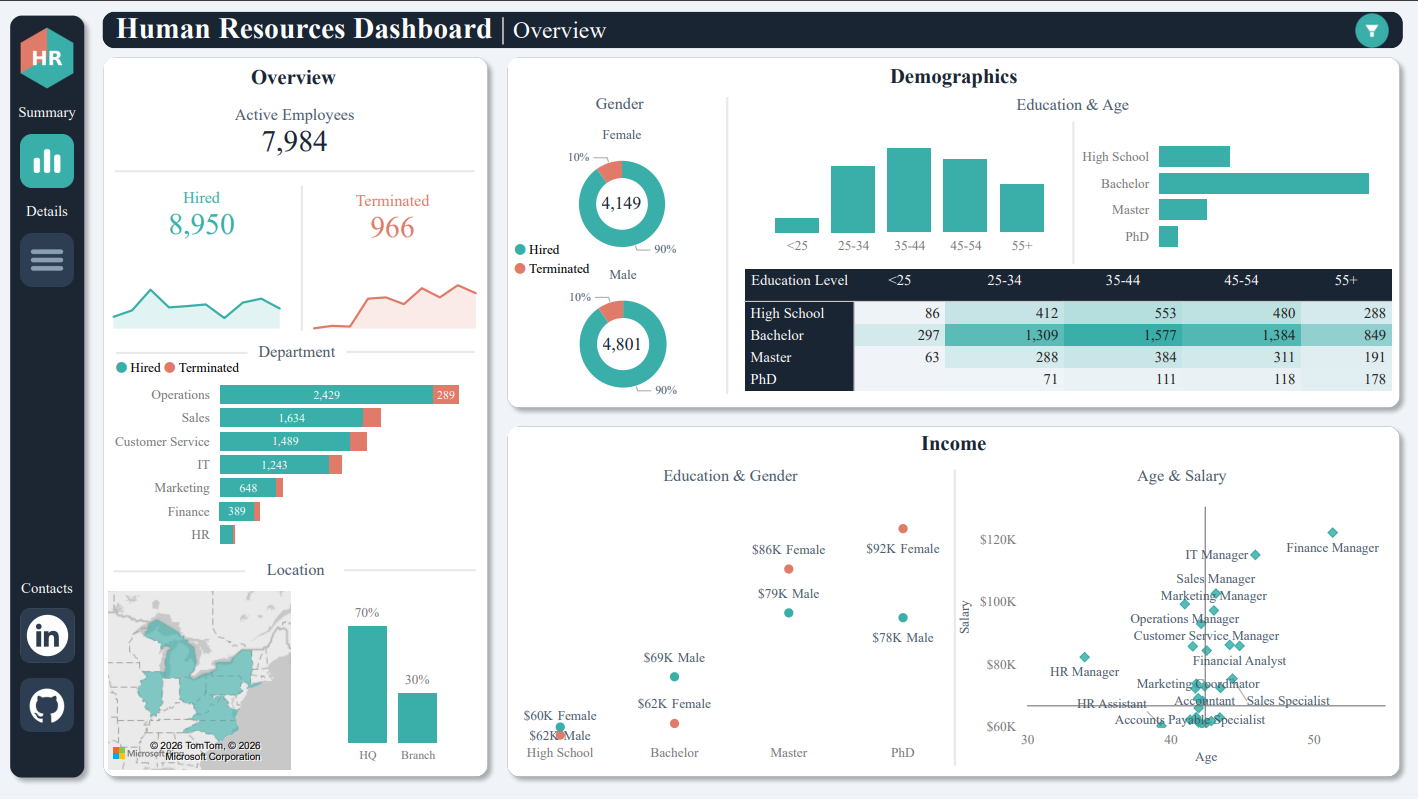

This screenshot's page, from the dashboard's own definition file:
{"tool":"powerbi","page":{"name":"HR | Summary","canvas":[1280,720],"ordinal":0},"visuals":[{"type":"shape","title":"Navigator","box":[0,0,84.5,720.1],"z":0,"group":"g13"},{"type":"shape","title":"Titler Header Section","box":[91.6,4.9,1189.1,38.5],"z":0,"group":"g9"},{"type":"group","id":"g1","title":"Left Overview Section","box":[84.2,43.4,364.4,666],"z":0},{"type":"shape","title":"Left Overview","box":[84.2,43.4,364.4,666],"z":0,"group":"g1"},{"type":"group","id":"g2","title":"Demo Section","box":[448.7,43.4,822.9,333.5],"z":0,"group":"g5"},{"type":"group","id":"g3","title":"Demo Section","box":[448.7,43.4,822.9,333.5],"z":0,"group":"g2"},{"type":"shape","title":"Demos Section","box":[448.7,43.4,822.9,333.5],"z":0,"group":"g3"},{"type":"columnChart","title":"Hired by Age Group","fields":{"Category":["HumanResources.Age Group"],"Y":["Employee_Measure.Total Hired"]},"box":[673.8,110,293.9,127.3],"z":0,"group":"g11"},{"type":"cardVisual","title":"Male Hired","fields":{"Data":["HumanResources.Total Hired"]},"box":[519.7,271.9,83.6,76],"z":0,"group":"g6"},{"type":"group","id":"g4","title":"Income Section","box":[448.7,375.9,822.9,333.5],"z":0,"group":"g7"},{"type":"shape","title":"Income Section","box":[448.7,375.9,822.9,333.5],"z":0,"group":"g4"},{"type":"textbox","title":"Education & Gender Title","box":[456.5,416.3,403.6,27.1],"z":0,"group":"g8"},{"type":"textbox","title":"Age & Salary Title","box":[868,416.3,396.8,27.1],"z":0,"group":"g12"},{"type":"textbox","title":"Title Header","box":[93.2,5,483.5,41.6],"z":1000,"group":"g9"},{"type":"image","title":"HR Logo","box":[8,15.1,68.3,72.7],"z":1000,"group":"g13"},{"type":"group","id":"g5","title":"Right Overview Section","box":[448.7,43.4,822.9,666],"z":1000},{"type":"textbox","title":"Demographics Title","box":[458.5,52.9,803.4,32.1],"z":1000,"group":"g3"},{"type":"textbox","title":"Overview Title","box":[92.6,53.2,344.8,32.7],"z":1000,"group":"g1"},{"type":"group","id":"g6","title":"Left Demo Section","box":[455.8,80.9,210.9,285.8],"z":1000,"group":"g2"},{"type":"barChart","title":"Hired by Education Level","fields":{"Category":["Dim_Education.Education Level"],"Y":["Employee_Measure.Total Hired"]},"box":[967.8,110,293,127.3],"z":1000,"group":"g11"},{"type":"donutChart","title":"Male","fields":{"Y":["Employee_Measure.Total Hired","Employee_Measure.Total Terminated"]},"box":[456.8,236.1,209.9,130.6],"z":1000,"group":"g6"},{"type":"group","id":"g7","title":"Income Section","box":[448.7,375.9,822.9,333.5],"z":1000,"group":"g5"},{"type":"textbox","title":"Income Title","box":[458.5,384.4,803.4,31.9],"z":1000,"group":"g4"},{"type":"group","id":"g8","title":"Left Income Section","box":[456.5,416.3,403.6,284.2],"z":1000,"group":"g7"},{"type":"scatterChart","title":"Age & Salary by Job Title","fields":{"X":["Avg(HumanResources.Age)"],"Y":["Median(HumanResources.Salary)"],"Category":["Dim_Job.Job Title"]},"box":[860.2,444.3,400.7,255.2],"z":1000,"group":"g12"},{"type":"lineChart","title":"Salary by Education & Gender","fields":{"Category":["Dim_Education.Education Level"],"Y":["Median(Fact_HR.Salary)"],"Series":["Dim_Employee.Gender"]},"box":[458.4,446.3,401.7,254.2],"z":1000,"group":"g8"},{"type":"group","id":"g9","title":"Header Section","box":[91.6,4.9,1189.1,41.7],"z":2000},{"type":"group","id":"g10","title":"Filters","box":[590,6,670,36.4],"z":2000,"group":"g9"},{"type":"image","title":"Show Filter","box":[1215,12,45,30],"z":2000,"group":"g10"},{"type":"group","id":"g11","title":"Right Demo Section","box":[667,81.7,595.8,288.1],"z":2000,"group":"g2"},{"type":"textbox","title":"Summary Text","box":[8,88,68,27],"z":2000,"group":"g13"},{"type":"cardVisual","title":"Female Hired","fields":{"Data":["HumanResources.Total Hired"]},"box":[518.7,143.6,83.6,77.9],"z":2000,"group":"g6"},{"type":"pivotTable","fields":{"Rows":["Dim_Education.Education Level"],"Columns":["HumanResources.Age Group"],"Values":["Employee_Measure.Total Hired"]},"box":[667,238.8,595.8,131],"z":2000,"group":"g11"},{"type":"textbox","title":"Department Title","box":[94.5,304.5,346.8,27.7],"z":2000,"group":"g1"},{"type":"group","id":"g12","title":"Right Income Section","box":[860.2,416.3,404.6,283.2],"z":2000,"group":"g7"},{"type":"group","id":"g13","title":"Navi","box":[0,0,84.5,720.1],"z":3000},{"type":"textbox","title":"Education & Age Title","box":[673.7,81.7,588.1,27],"z":3000,"group":"g11"},{"type":"shape","title":"Divider","box":[649.3,87.7,12.8,267.4],"z":3000,"group":"g2"},{"type":"donutChart","title":"Female","fields":{"Y":["Employee_Measure.Total Hired","Employee_Measure.Total Terminated"]},"box":[455.8,109.8,209.9,130.3],"z":3000,"group":"g6"},{"type":"shape","title":"Divider","box":[854.8,423.1,12.8,267.4],"z":3000,"group":"g7"},{"type":"textbox","title":"Location Title","box":[94.5,500.5,344.8,26.7],"z":3000,"group":"g1"},{"type":"cardVisual","title":"Total Active Card","fields":{"Data":["Employee_Measure.Total Actif"]},"box":[92.6,80.9,346.8,78.2],"z":4000,"group":"g1"},{"type":"textbox","title":"Gender Title","box":[456.6,80.9,204.3,28],"z":4000,"group":"g6"},{"type":"shape","title":"Divider","box":[961.9,109.4,12.8,129.3],"z":4000,"group":"g2"},{"type":"image","title":"Summary ON","box":[8,115,68,60],"z":4000,"group":"g13"},{"type":"cardVisual","title":"Total Hired Card","fields":{"Data":["HumanResources.Total Hired"]},"box":[91.4,154.7,180.5,80.2],"z":5000,"group":"g1"},{"type":"textbox","title":"Records Text","box":[8,177,68,27],"z":5000,"group":"g13"},{"type":"textbox","title":"Legends","box":[458.5,211.1,86.5,46.4],"z":5000,"group":"g2"},{"type":"cardVisual","title":"Terminated Card","fields":{"Data":["Employee_Measure.Total Terminated"]},"box":[269.1,157.2,169.9,78.7],"z":6000,"group":"g1"},{"type":"image","title":"Record OFF","box":[8,204,68,60],"z":6000,"group":"g13"},{"type":"areaChart","title":"Hired by Year","fields":{"Category":["HumanResources.Hiredate.Variation.Date Hierarchy.Year"],"Y":["Employee_Measure.Total Hired"]},"box":[92.6,237.2,174.8,65.3],"z":7000,"group":"g1"},{"type":"areaChart","title":"Terminated by Year","fields":{"Y":["Employee_Measure.Total Terminated"],"Category":["HumanResources.Termdate.Variation.Date Hierarchy.Year"]},"box":[268.4,237.2,170.9,65.3],"z":8000,"group":"g1"},{"type":"textbox","title":"Contacts Text","box":[8,518,68,27],"z":8000,"group":"g13"},{"type":"barChart","title":"Hired by Department","fields":{"Category":["Dim_Job.Department"],"Y":["Employee_Measure.Total Active","Employee_Measure.Total Terminated"]},"box":[92.6,331.3,348.7,168.2],"z":9000,"group":"g1"},{"type":"image","title":"GitHub","box":[8,597,68,77],"z":9000,"group":"g13"},{"type":"image","title":"LinkedIN","box":[0,518,84,110],"z":10000,"group":"g13"},{"type":"columnChart","title":"Hired by Location","fields":{"Category":["Fact_HR.Location"],"Y":["Employee_Measure.Total Hired"]},"box":[268.4,528.2,172.9,172.2],"z":10000,"group":"g1"},{"type":"filledMap","title":"Hired by State","fields":{"Category":["Dim_Location.State"]},"box":[92.6,528.2,174.8,171.2],"z":11000,"group":"g1"},{"type":"shape","title":"Divider","box":[93,148.3,344.8,12.1],"z":12000,"group":"g1"},{"type":"shape","title":"Divider","box":[266.4,167,12,131],"z":13000,"group":"g1"},{"type":"shape","title":"Divider","box":[94.5,312.5,138.5,11.9],"z":14000,"group":"g1"},{"type":"shape","title":"Divider","box":[301.8,311.5,136.5,12.1],"z":15000,"group":"g1"},{"type":"shape","title":"Divider","box":[92.6,509.4,138.5,11.9],"z":16000,"group":"g1"},{"type":"shape","title":"Divider","box":[299.8,508.4,139.5,11.9],"z":17000,"group":"g1"},{"type":"textbox","title":"Legends","box":[99,317.3,125.9,30.4],"z":18000,"group":"g1"}]}

Visuals, with their boxes on the page's 1280x720 design canvas (x1, y1, x2, y2). These are canvas units, not pixel positions in the 1418x800 screenshot, which may show the page scaled, cropped or inside an application window:
"Navigator" shape: <region>0, 0, 84, 720</region>
"Titler Header Section" shape: <region>92, 5, 1281, 43</region>
"Left Overview Section" group: <region>84, 43, 449, 709</region>
"Left Overview" shape: <region>84, 43, 449, 709</region>
"Demo Section" group: <region>449, 43, 1272, 377</region>
"Demo Section" group: <region>449, 43, 1272, 377</region>
"Demos Section" shape: <region>449, 43, 1272, 377</region>
"Hired by Age Group" columnChart: <region>674, 110, 968, 237</region>
"Male Hired" cardVisual: <region>520, 272, 603, 348</region>
"Income Section" group: <region>449, 376, 1272, 709</region>
"Income Section" shape: <region>449, 376, 1272, 709</region>
"Education & Gender Title" textbox: <region>456, 416, 860, 443</region>
"Age & Salary Title" textbox: <region>868, 416, 1265, 443</region>
"Title Header" textbox: <region>93, 5, 577, 47</region>
"HR Logo" image: <region>8, 15, 76, 88</region>
"Right Overview Section" group: <region>449, 43, 1272, 709</region>
"Demographics Title" textbox: <region>458, 53, 1262, 85</region>
"Overview Title" textbox: <region>93, 53, 437, 86</region>
"Left Demo Section" group: <region>456, 81, 667, 367</region>
"Hired by Education Level" barChart: <region>968, 110, 1261, 237</region>
"Male" donutChart: <region>457, 236, 667, 367</region>
"Income Section" group: <region>449, 376, 1272, 709</region>
"Income Title" textbox: <region>458, 384, 1262, 416</region>
"Left Income Section" group: <region>456, 416, 860, 700</region>
"Age & Salary by Job Title" scatterChart: <region>860, 444, 1261, 700</region>
"Salary by Education & Gender" lineChart: <region>458, 446, 860, 700</region>
"Header Section" group: <region>92, 5, 1281, 47</region>
"Filters" group: <region>590, 6, 1260, 42</region>
"Show Filter" image: <region>1215, 12, 1260, 42</region>
"Right Demo Section" group: <region>667, 82, 1263, 370</region>
"Summary Text" textbox: <region>8, 88, 76, 115</region>
"Female Hired" cardVisual: <region>519, 144, 602, 222</region>
pivotTable - Dim_Education.Education Level x HumanResources.Age Group: <region>667, 239, 1263, 370</region>
"Department Title" textbox: <region>94, 304, 441, 332</region>
"Right Income Section" group: <region>860, 416, 1265, 700</region>
"Navi" group: <region>0, 0, 84, 720</region>
"Education & Age Title" textbox: <region>674, 82, 1262, 109</region>
"Divider" shape: <region>649, 88, 662, 355</region>
"Female" donutChart: <region>456, 110, 666, 240</region>
"Divider" shape: <region>855, 423, 868, 690</region>
"Location Title" textbox: <region>94, 500, 439, 527</region>
"Total Active Card" cardVisual: <region>93, 81, 439, 159</region>
"Gender Title" textbox: <region>457, 81, 661, 109</region>
"Divider" shape: <region>962, 109, 975, 239</region>
"Summary ON" image: <region>8, 115, 76, 175</region>
"Total Hired Card" cardVisual: <region>91, 155, 272, 235</region>
"Records Text" textbox: <region>8, 177, 76, 204</region>
"Legends" textbox: <region>458, 211, 545, 258</region>
"Terminated Card" cardVisual: <region>269, 157, 439, 236</region>
"Record OFF" image: <region>8, 204, 76, 264</region>
"Hired by Year" areaChart: <region>93, 237, 267, 302</region>
"Terminated by Year" areaChart: <region>268, 237, 439, 302</region>
"Contacts Text" textbox: <region>8, 518, 76, 545</region>
"Hired by Department" barChart: <region>93, 331, 441, 500</region>
"GitHub" image: <region>8, 597, 76, 674</region>
"LinkedIN" image: <region>0, 518, 84, 628</region>
"Hired by Location" columnChart: <region>268, 528, 441, 700</region>
"Hired by State" filledMap: <region>93, 528, 267, 699</region>
"Divider" shape: <region>93, 148, 438, 160</region>
"Divider" shape: <region>266, 167, 278, 298</region>
"Divider" shape: <region>94, 312, 233, 324</region>
"Divider" shape: <region>302, 312, 438, 324</region>
"Divider" shape: <region>93, 509, 231, 521</region>
"Divider" shape: <region>300, 508, 439, 520</region>
"Legends" textbox: <region>99, 317, 225, 348</region>
